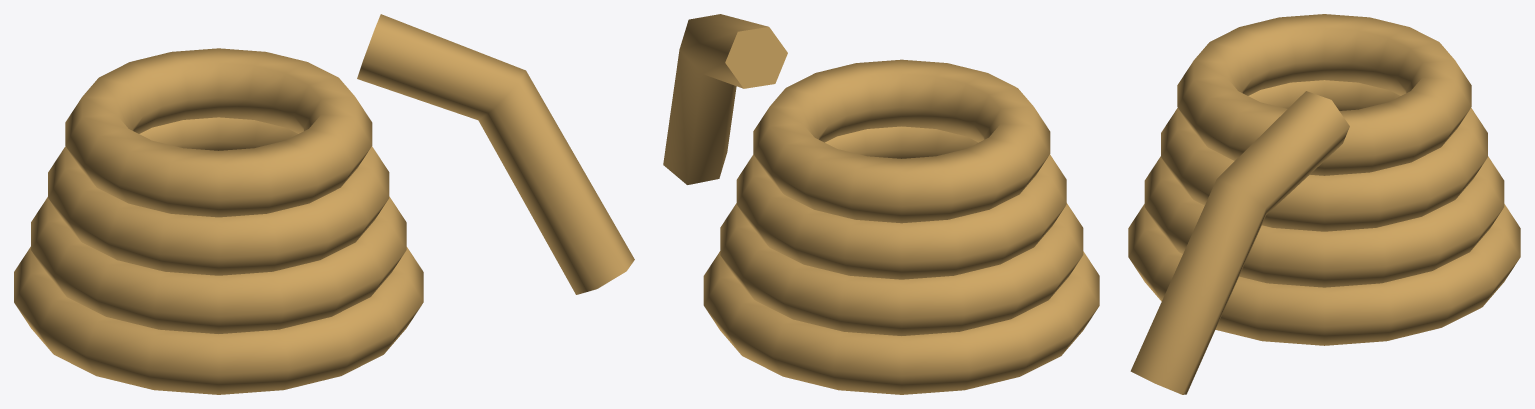
Rendered from rope_coil.glb.
The picture shows the model from 3 angles, left to right: view 1: azimuth 30°, elevation 25°; view 2: azimuth 150°, elevation 25°; view 3: azimuth 270°, elevation 25°; orthographic projection. The views are drawn at different scales.
Parts seen in each view (by area): view 1: root; view 2: root; view 3: root.
Part boxes in pixels (x1,y1,x2,y2): root: (14, 14, 634, 394); root: (663, 14, 1099, 394); root: (1128, 14, 1520, 394).
Size of the model in its own units: 0.6762 by 0.3276 by 0.4727.
